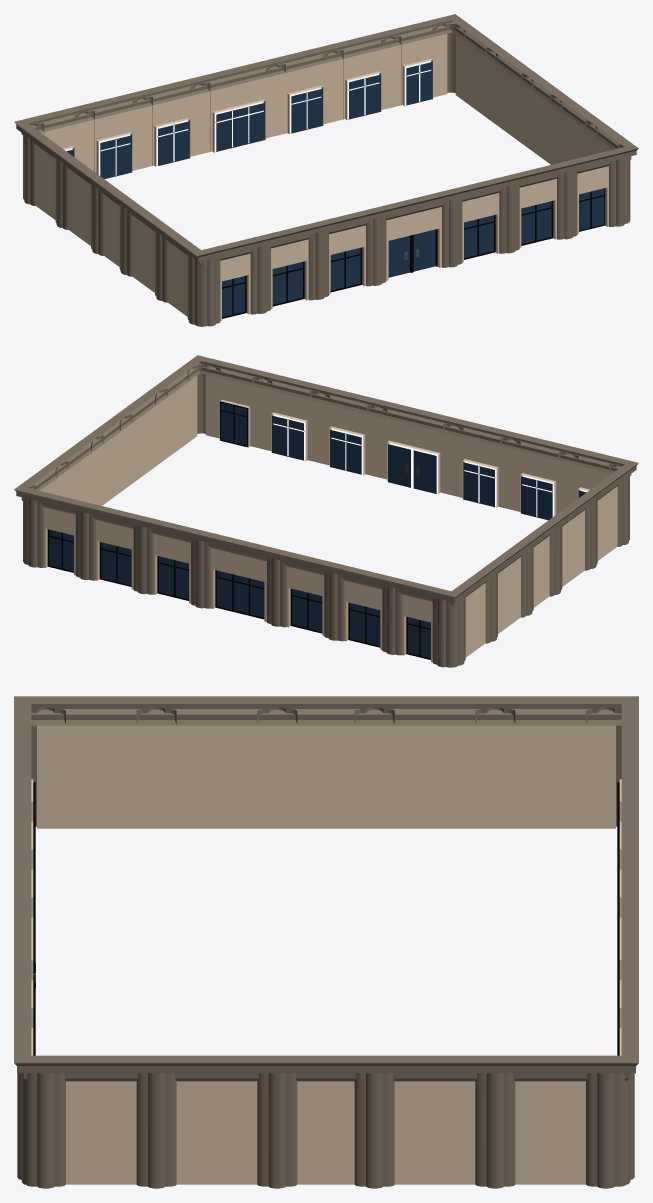
File: Apt3_Base.fbx
3 views of the same model, one above another, from view 1: azimuth 30°, elevation 25°; view 2: azimuth 150°, elevation 25°; view 3: azimuth 270°, elevation 25° (orthographic). The views are drawn at different scales.
Visible parts, largest first — view 1: Apt3_Base_Main, Apt3_Base_Border, Apt3_Base_Pillars, Apt3_Base_Windows, Apt3_Base_Frame; view 2: Apt3_Base_Main, Apt3_Base_Border, Apt3_Base_Pillars, Apt3_Base_Windows, Apt3_Base_Frame; view 3: Apt3_Base_Main, Apt3_Base_Border, Apt3_Base_Pillars, Apt3_Base_Frame.
Part boxes in pixels (<box>): Apt3_Base_Main: <box>35,33,612,321</box>; Apt3_Base_Border: <box>14,14,638,265</box>; Apt3_Base_Pillars: <box>23,23,630,326</box>; Apt3_Base_Windows: <box>66,62,604,317</box>; Apt3_Base_Frame: <box>100,61,605,318</box>; Apt3_Base_Main: <box>40,375,617,662</box>; Apt3_Base_Border: <box>14,355,638,606</box>; Apt3_Base_Pillars: <box>23,364,629,667</box>; Apt3_Base_Windows: <box>49,402,586,658</box>; Apt3_Base_Frame: <box>47,401,552,659</box>; Apt3_Base_Main: <box>31,725,621,1184</box>; Apt3_Base_Border: <box>14,696,638,1081</box>; Apt3_Base_Pillars: <box>17,707,634,1188</box>; Apt3_Base_Frame: <box>33,782,619,1055</box>.
Size of the model in its own units: 2924 by 471 by 2106.
